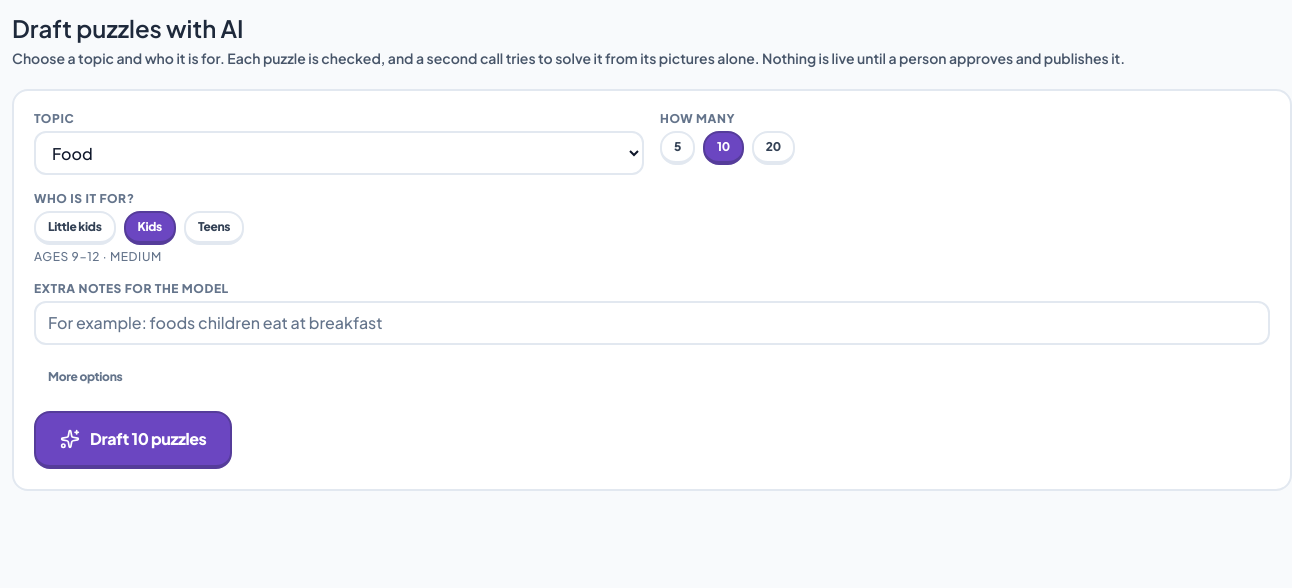
Test: the Generate tab › shows the server's reason when there is no key or the feature is off
This screenshot has width=1292, height=588.
Click the button "Draft 10 puzzles". click: [133, 440]
box: [34,411,232,469]
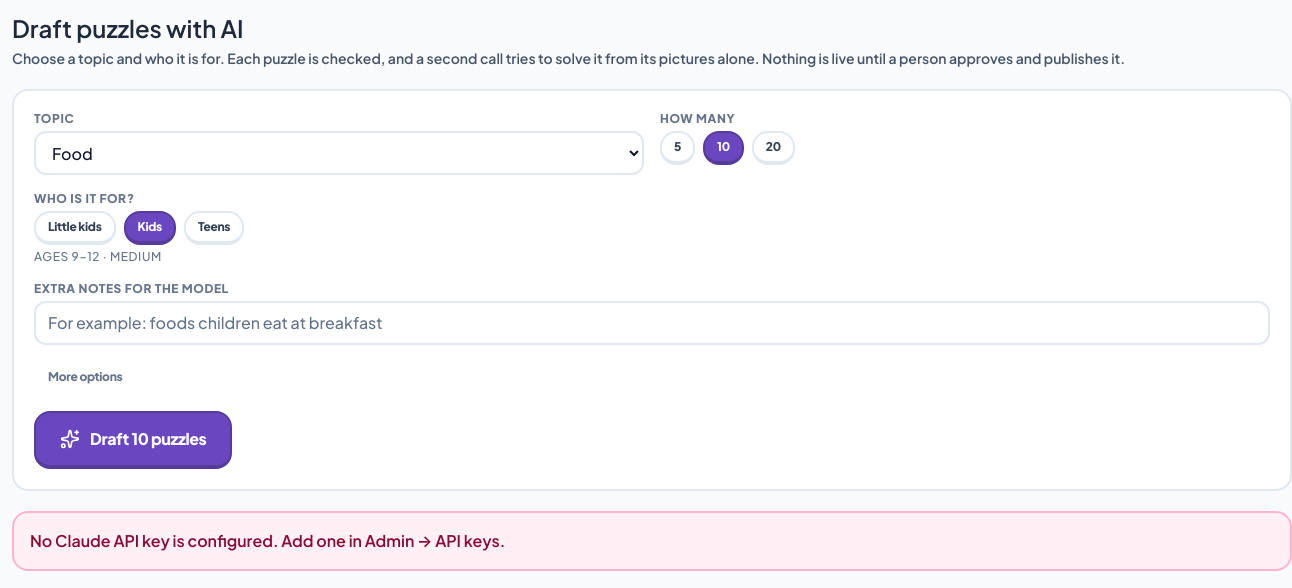
Check: the text "No Claude API key is configured. Add one in Admin → API keys." is shown, box [12,511,1291,571]
